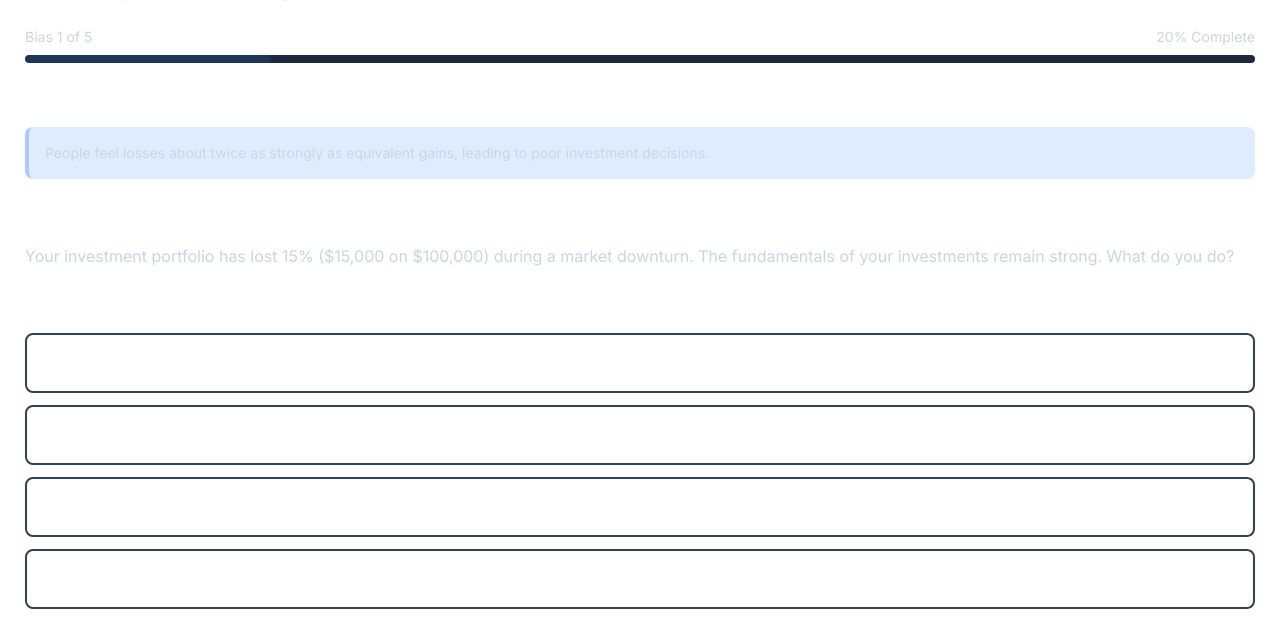
BehavioralFinanceSimulator › shows anchoring bias scenario and options
Note: Complete first bias to get to anchoring
Click the button "Hold steady and continue regular investing".
click(207, 507)  # box [25,477,1255,537]
(page scrolled)
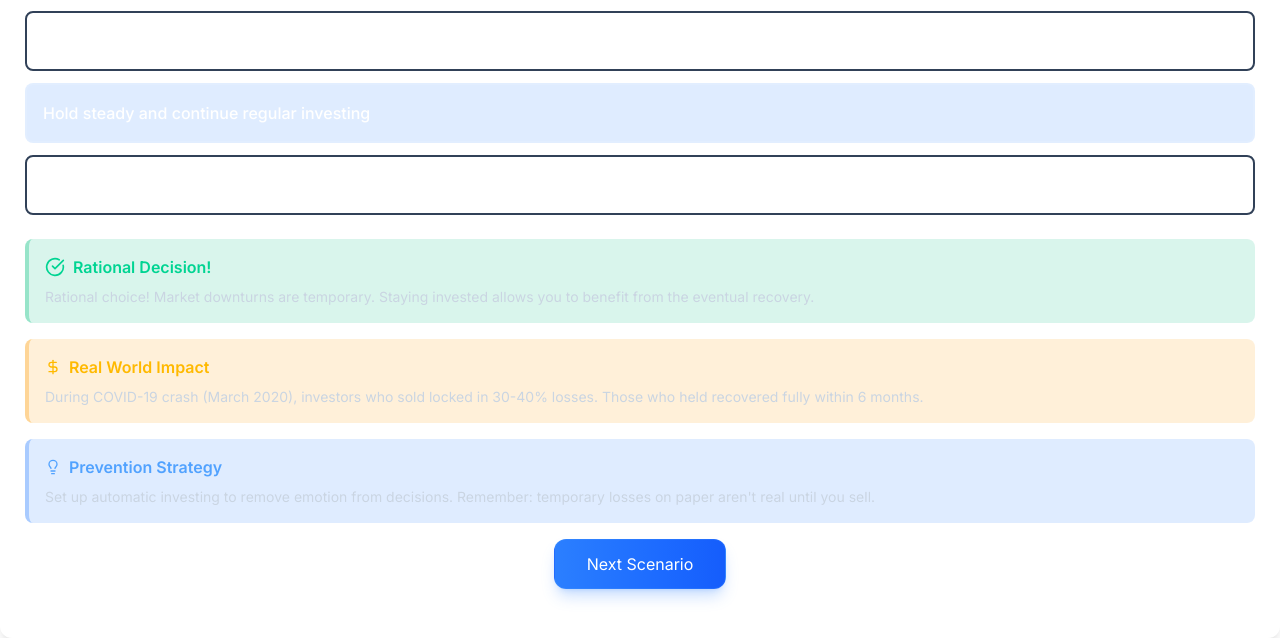
Click the button "Next Scenario".
click(640, 564)  # box [554,539,726,589]
(page scrolled)
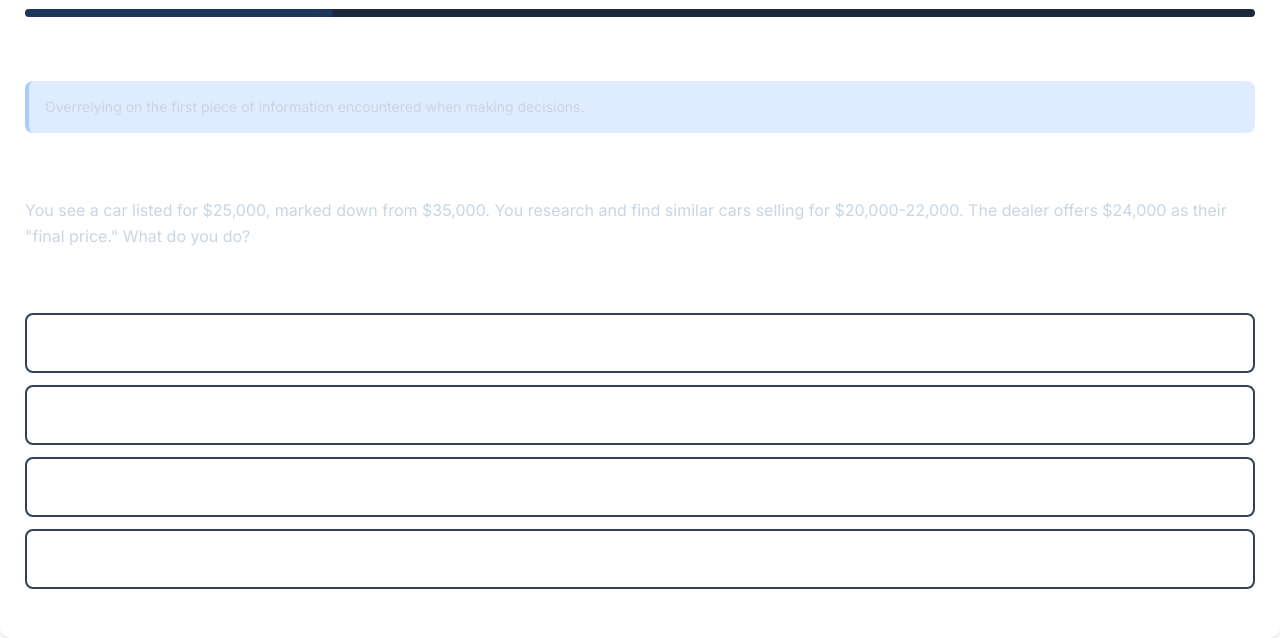
Check: the text "You see a car listed for $25,000" is shown, box [25,200,1227,246]
